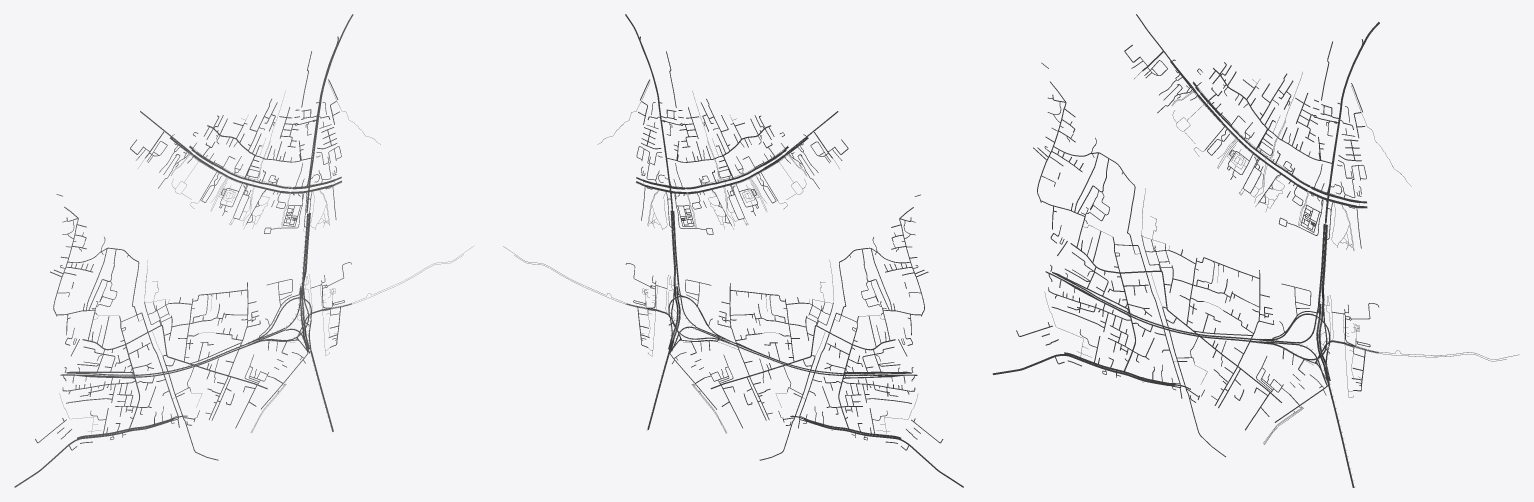
Rendered from roads_4_3.obj.
The picture shows the model from 3 angles, left to right: view 1: azimuth 30°, elevation 25°; view 2: azimuth 150°, elevation 25°; view 3: azimuth 330°, elevation 25°; orthographic projection. The views are drawn at different scales.
Size of the model in its own units: 3355 by 2882 by 27.3.
Materials: 5 (5 with a texture image).
